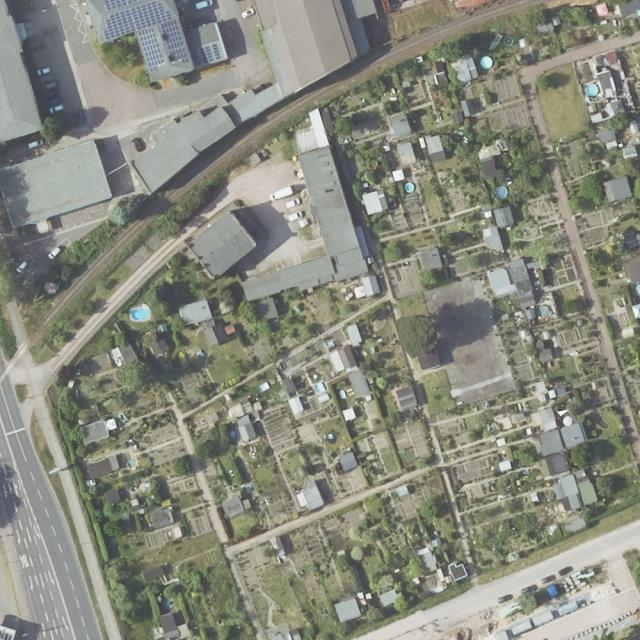PV: (101, 1, 173, 42), (161, 19, 189, 66), (137, 26, 164, 74), (199, 43, 221, 64), (102, 1, 142, 12)
